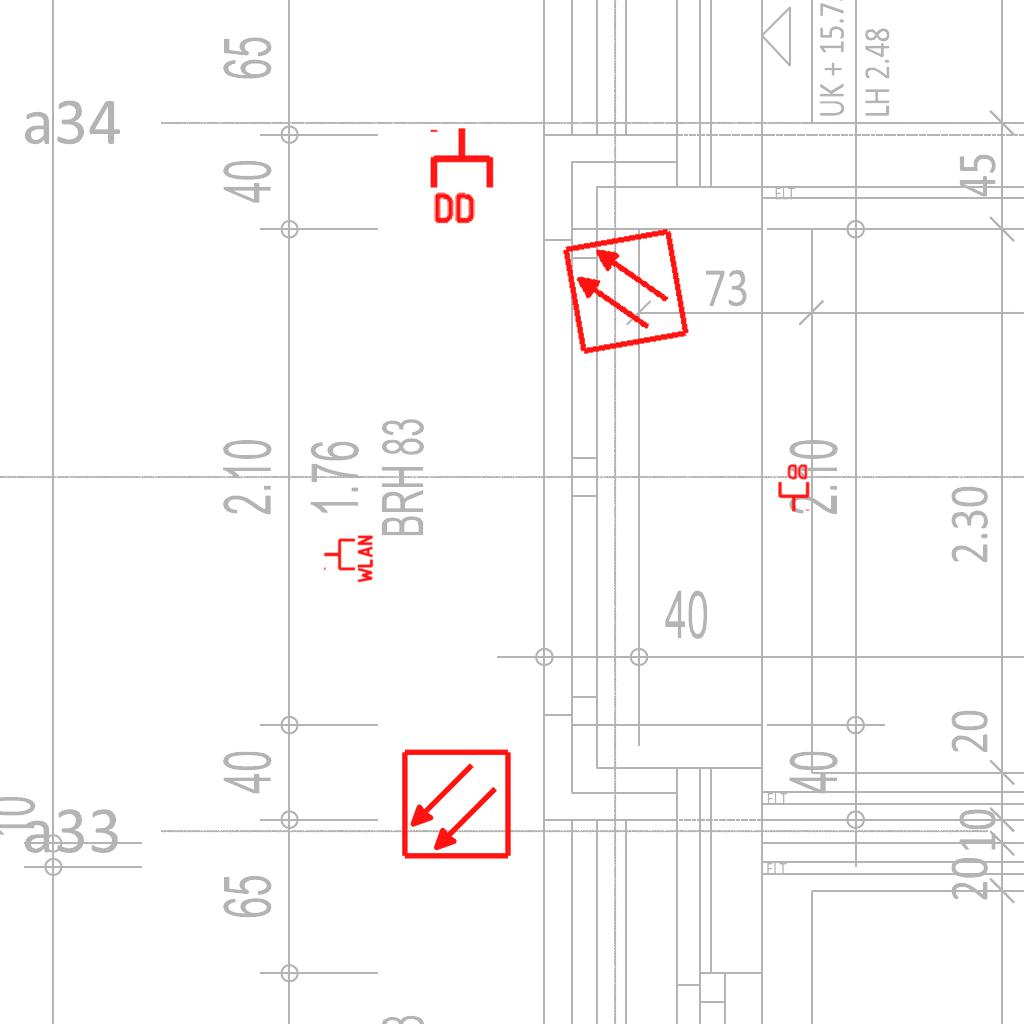Datenanschluss_zweifach: (429, 125, 498, 228), (776, 462, 810, 513)
RMO_Rauchmelder_optischer: (560, 226, 691, 357), (400, 748, 513, 861)
WLAN: (322, 533, 374, 585)
